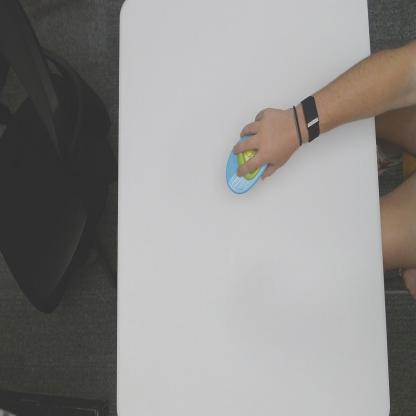Arm: (321, 56, 374, 132)
Boat: (224, 131, 270, 197)
Hand: (233, 106, 296, 182)
